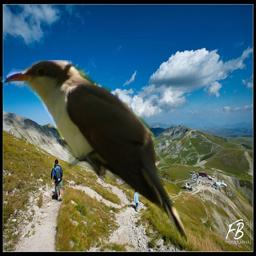Cuckoo: (0, 60, 187, 246)
